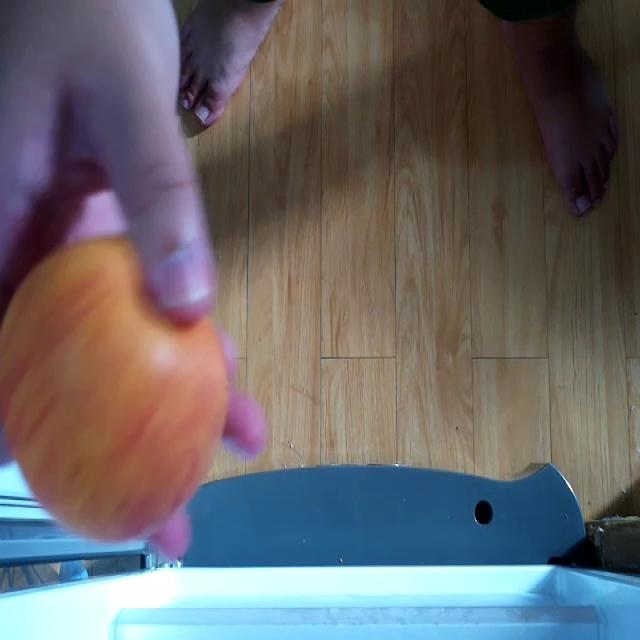apple: (0, 245, 218, 548)
